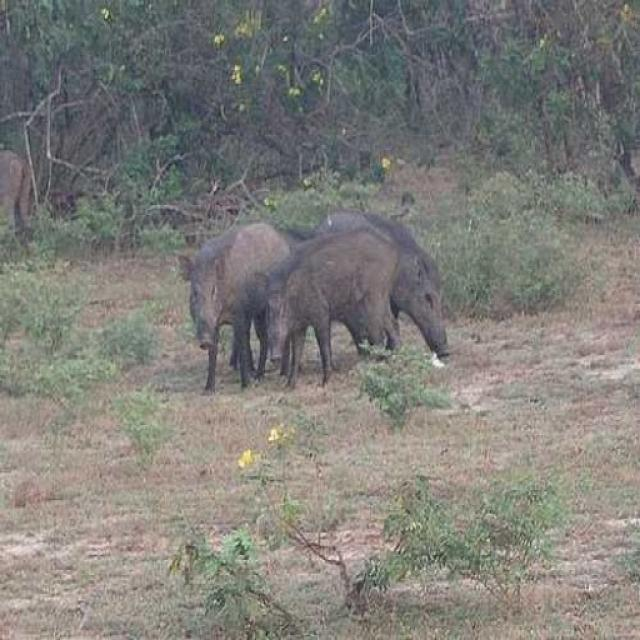pig: (244, 212, 409, 372), (349, 189, 472, 367), (177, 216, 291, 382)
